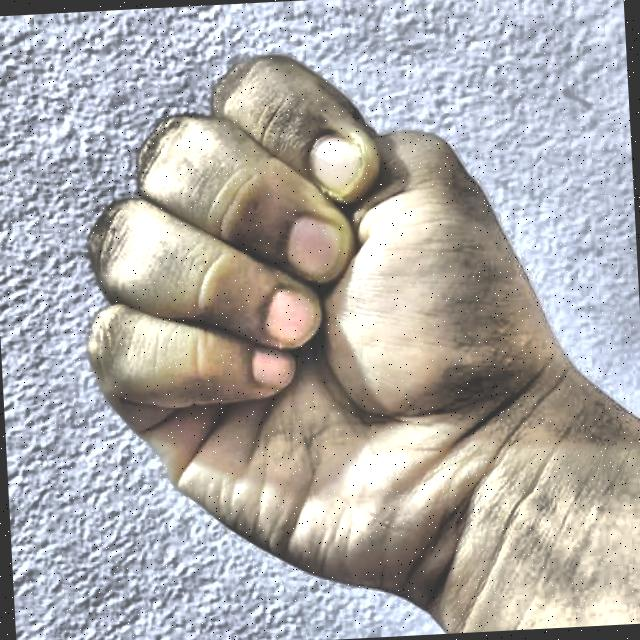To: (68, 25, 578, 636)
